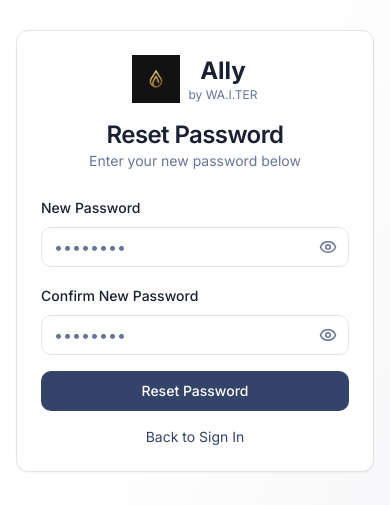
Test: ResetPassword › Form Validation › shows error for mismatched passwords
Type "password123" into the password field labelled "New Password". click: (195,247)
box: x1=41 y1=227 x2=349 y2=267
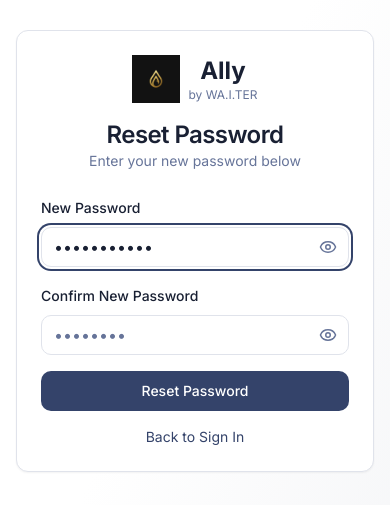
Type "differentpassword" into the password field labelled "Confirm New Password". click: (195,335)
box: x1=41 y1=315 x2=349 y2=355
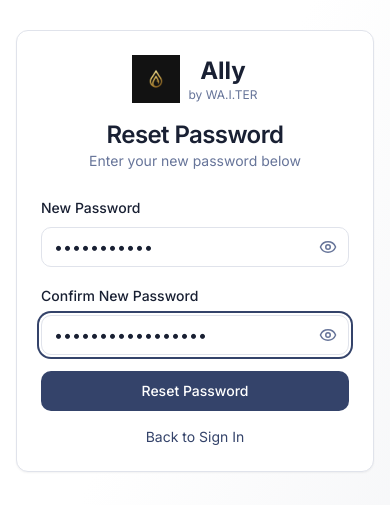
Click the button "Reset Password". click: (195,391)
box: x1=41 y1=371 x2=349 y2=411
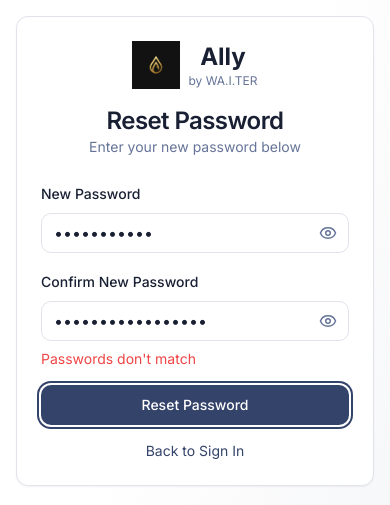
Now the text "Passwords don't match" is shown, box x1=41 y1=350 x2=196 y2=367
